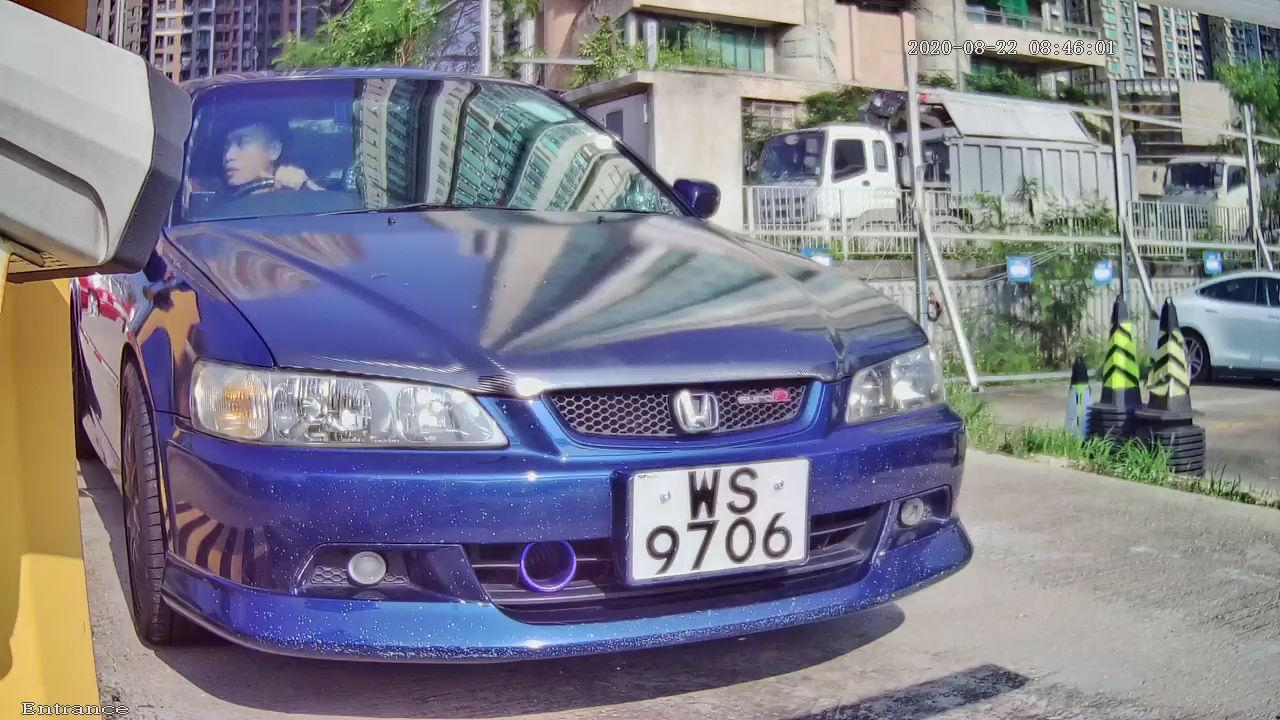Car: (6, 7, 1035, 720)
License Plate: (618, 451, 823, 595)
